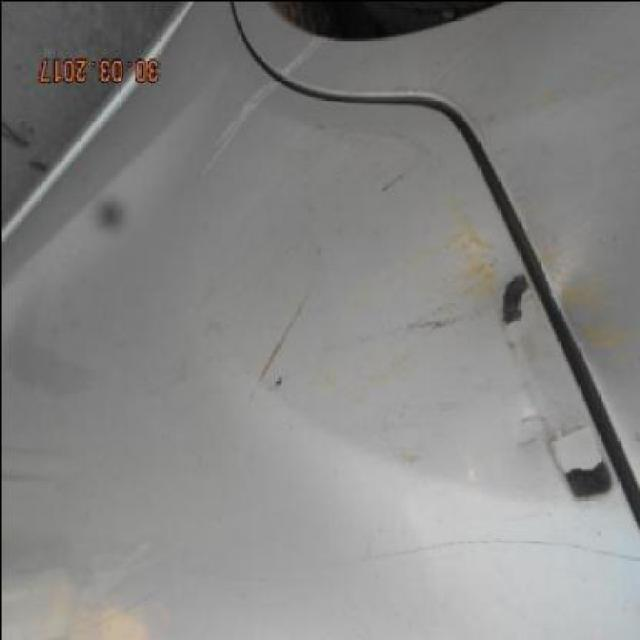damage: (195, 33, 628, 501), (558, 457, 613, 508), (492, 273, 526, 332)
